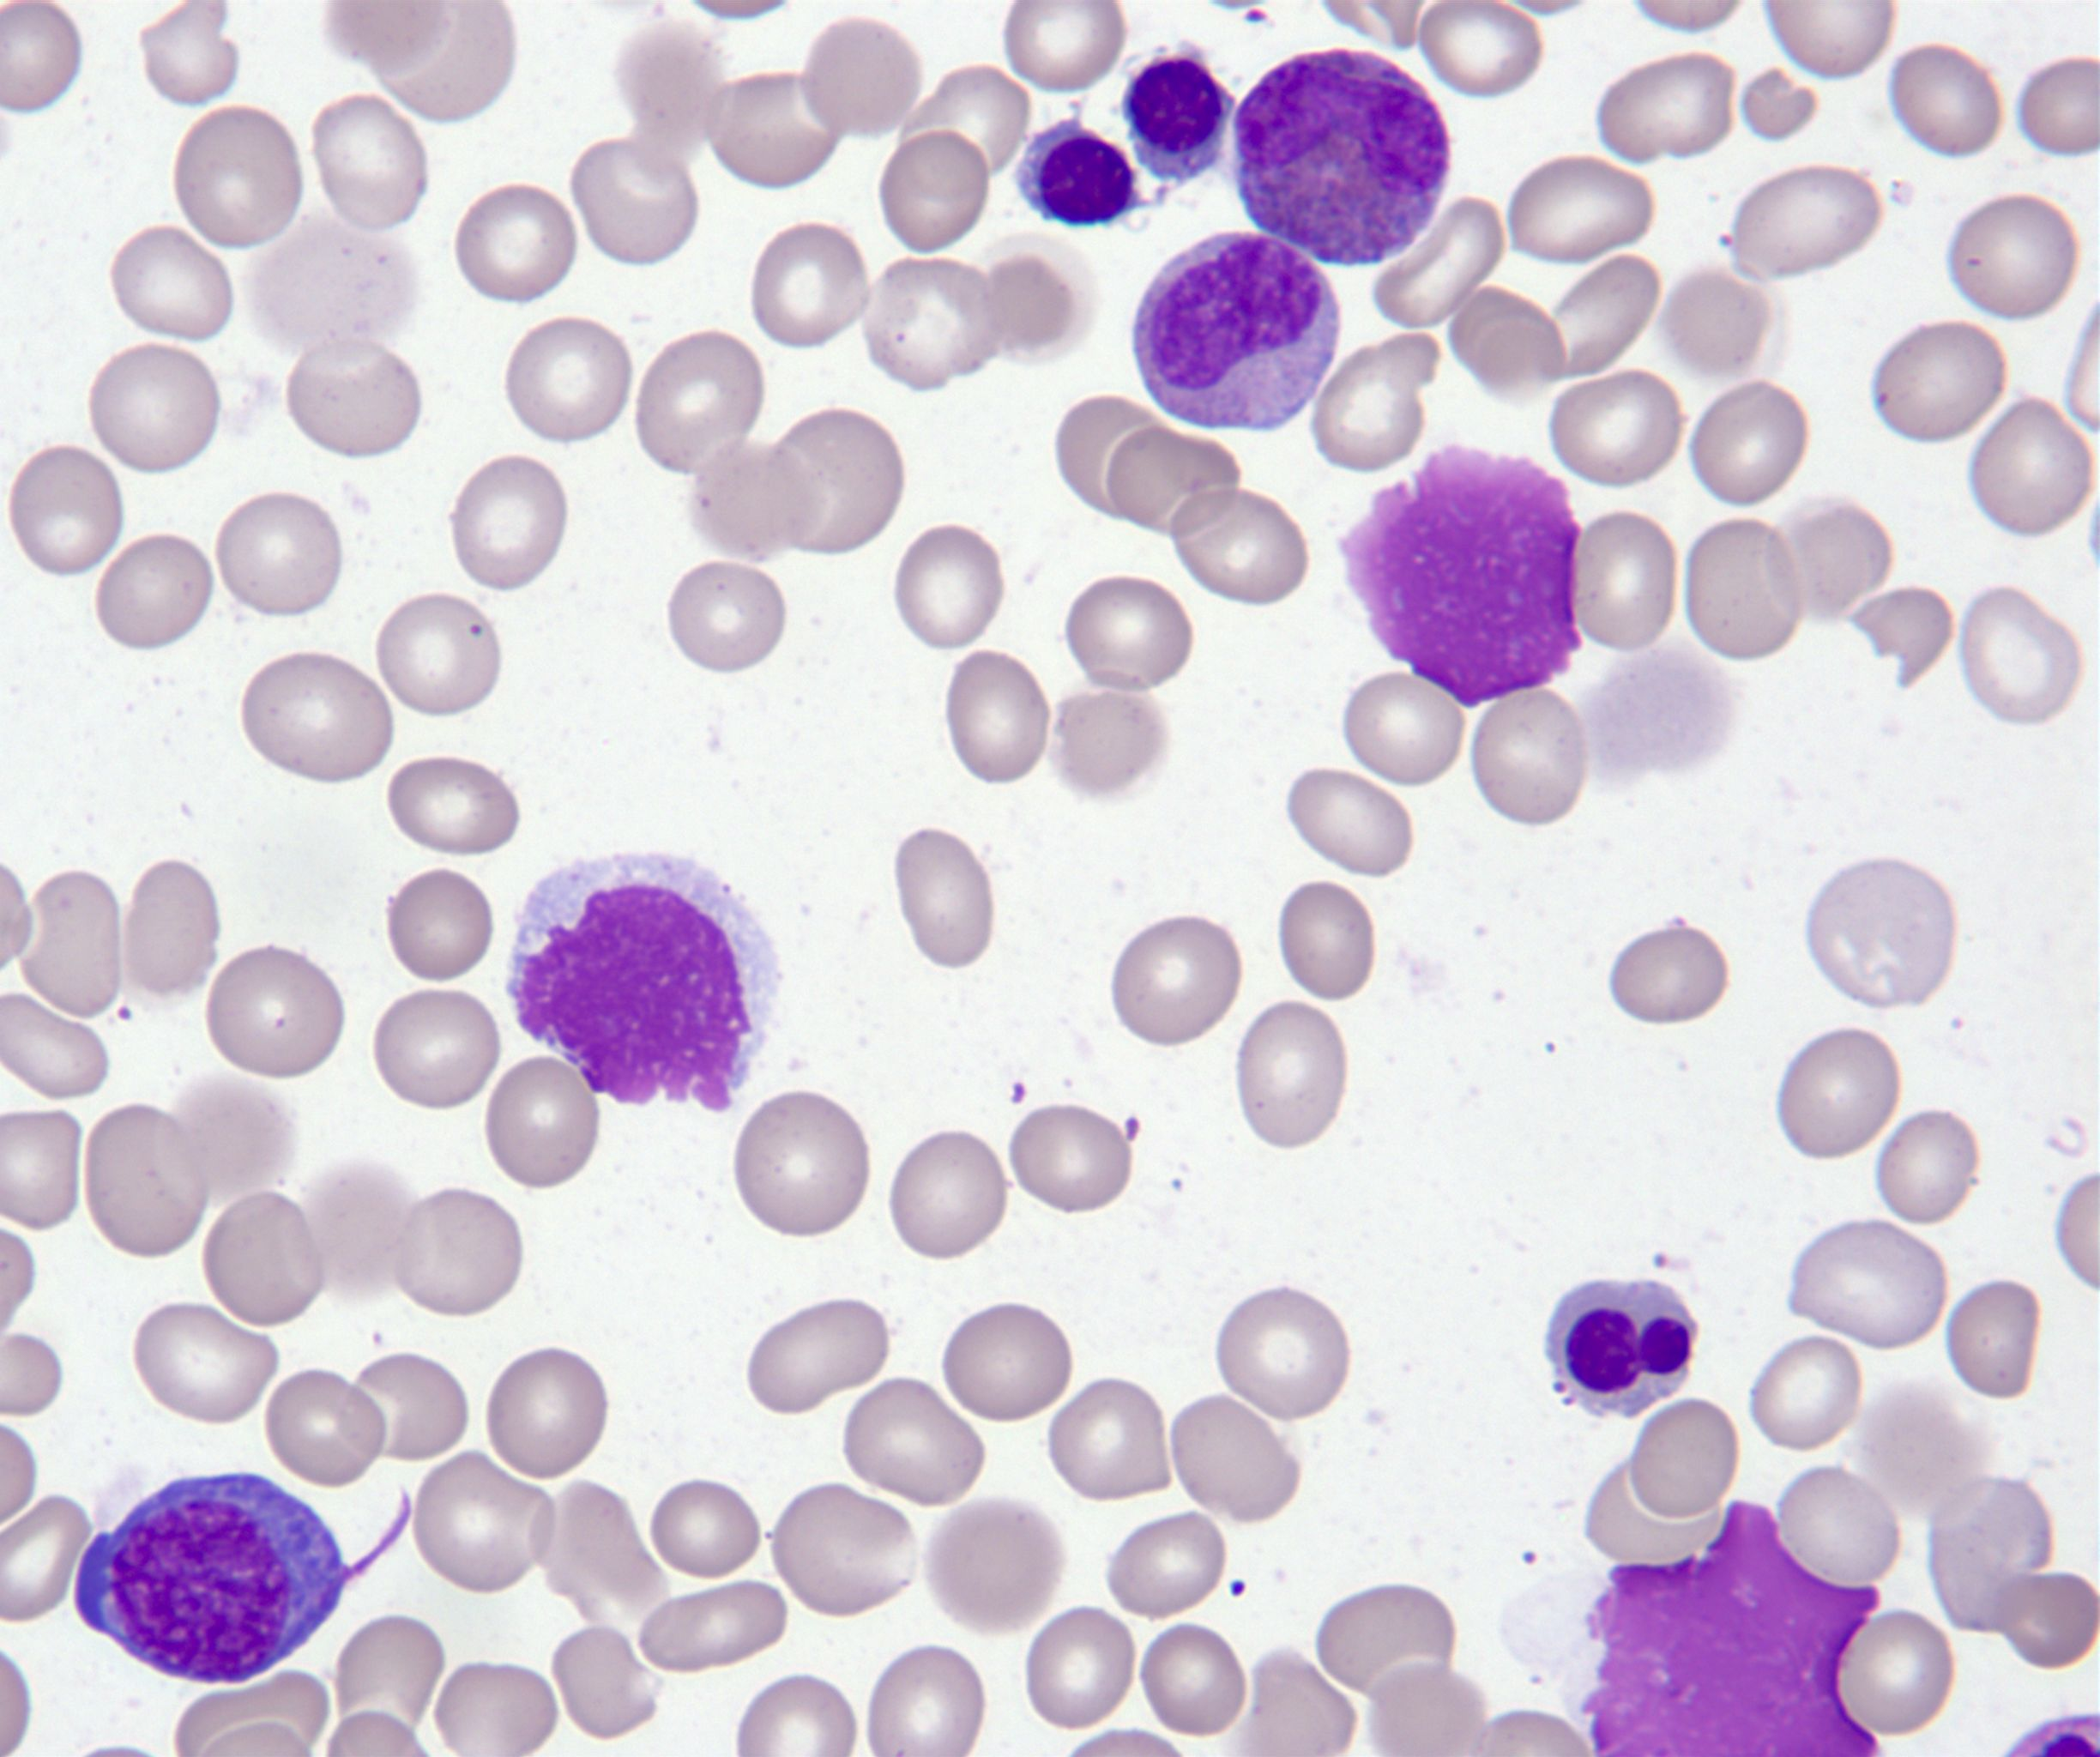23: (75, 1474, 345, 1684)
24: (1547, 1281, 1699, 1417), (1125, 38, 1237, 178), (1012, 117, 1137, 225)
3: (1135, 234, 1341, 431)
E3: (1233, 51, 1449, 265)
x: (1575, 1501, 1880, 1757), (508, 855, 781, 1115), (1341, 443, 1584, 707)
